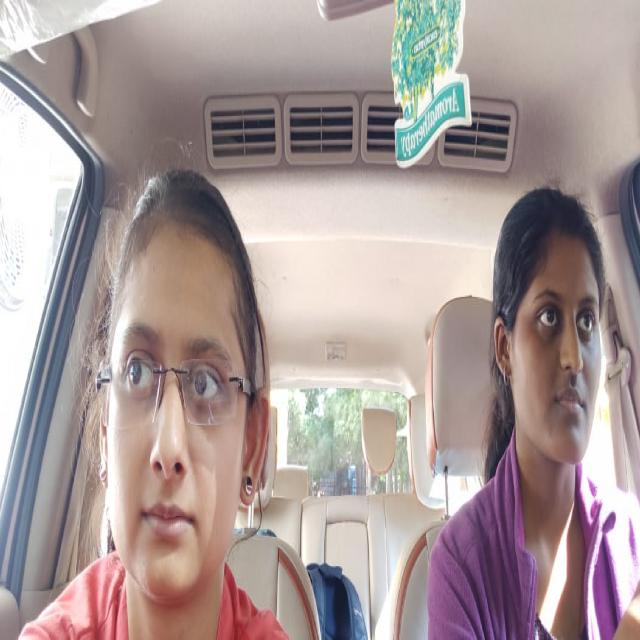person: (92, 153, 271, 597), (487, 179, 611, 480)
